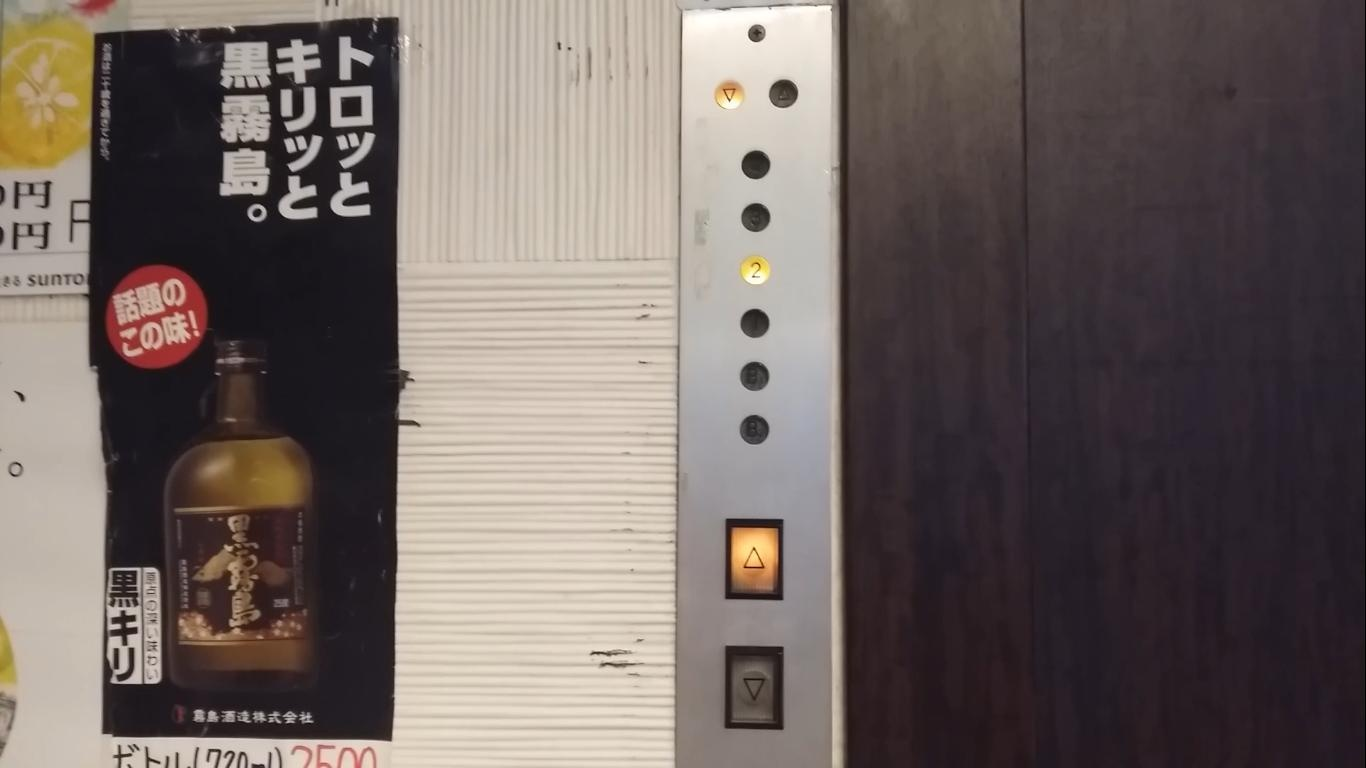1: (739, 308, 770, 339)
2: (740, 255, 770, 286)
B: (739, 414, 770, 446), (740, 360, 770, 392)
blur: (741, 202, 772, 233), (741, 148, 771, 180)
down: (725, 645, 784, 731), (713, 80, 745, 109)
up: (724, 517, 783, 603), (768, 78, 799, 109)
